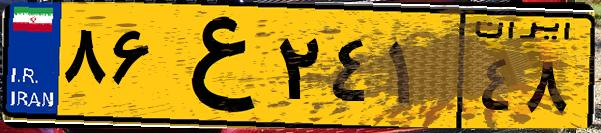1: (385, 28, 445, 110)
2: (270, 28, 330, 110)
4: (330, 28, 385, 110), (475, 38, 525, 113)
6: (110, 28, 158, 98)
8: (57, 26, 110, 100), (525, 38, 570, 115)
ع: (158, 12, 270, 120)
